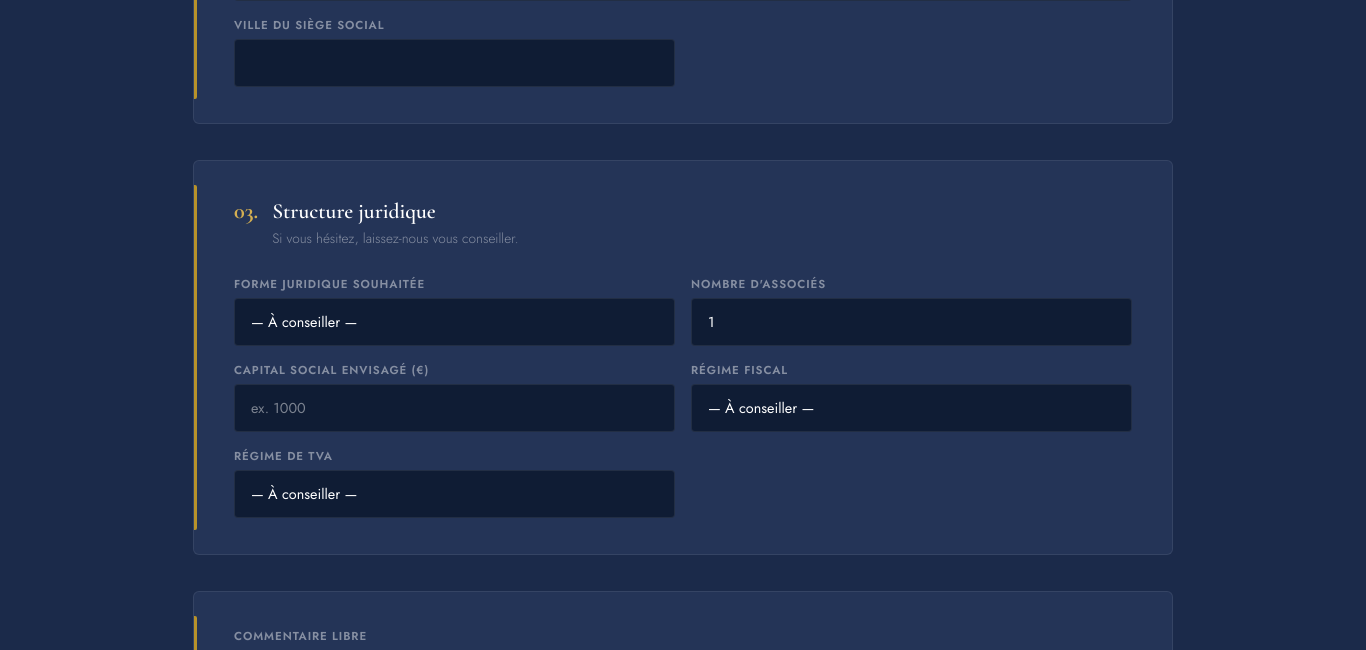
CreationEntrepriseForm › préselectionne EURL avec le régime fiscal IR — Impôt sur le revenu
(page scrolled)
Select "EURL" in the dropdown named "formeJuridique" below "Forme juridique souhaitée". click: (454, 322)
box: [234,298,675,346]
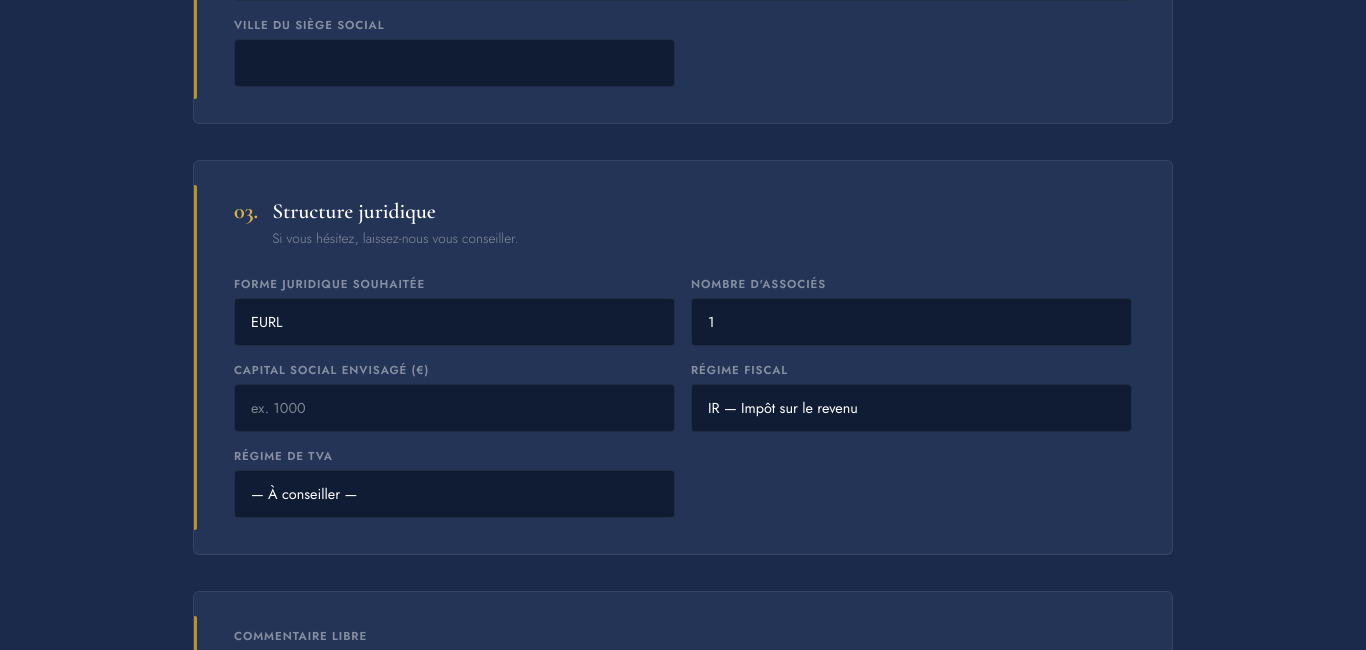
Result: the dropdown named "regimeFiscal" below "Régime fiscal" shows "IR — Impôt sur le revenu" at [691,384,1132,432]
